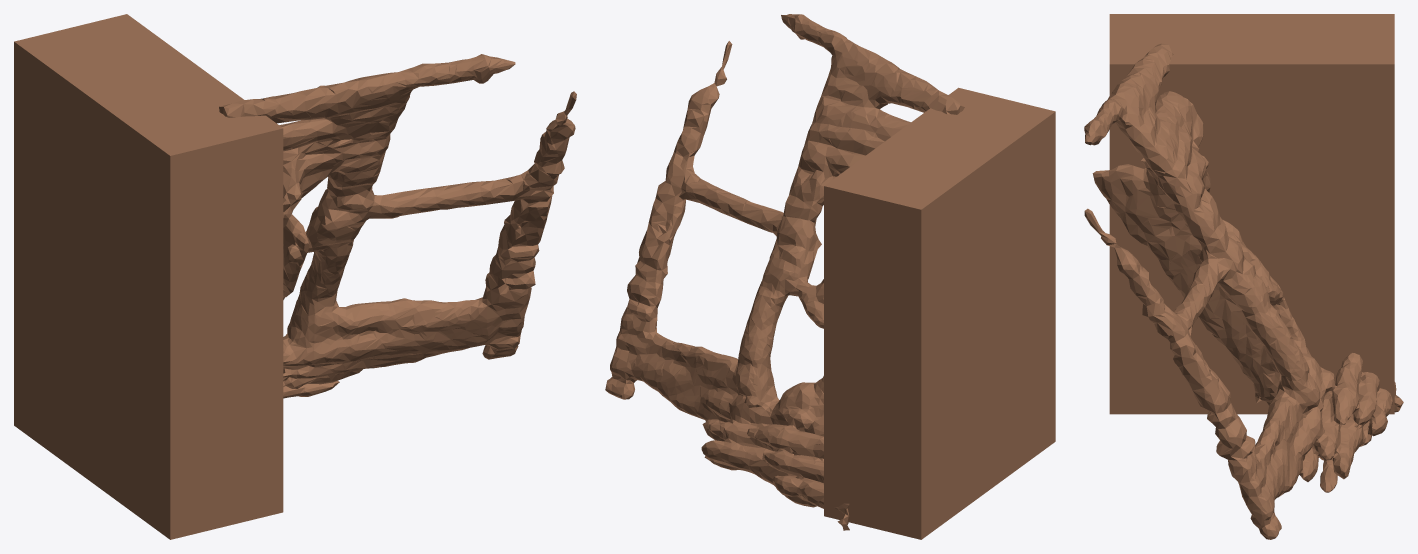
The model's file is improved.glb.
3 views of the same model, side by side, from view 1: azimuth 30°, elevation 25°; view 2: azimuth 150°, elevation 25°; view 3: azimuth 270°, elevation 25° (orthographic). The views are drawn at different scales.
Visible parts, largest first — view 1: world; view 2: world; view 3: world.
Part boxes in pixels (x1,y1,x2,y2): world: (14,14,576,539); world: (605,14,1055,539); world: (1084,14,1403,539).
Bounding box in the file's own units: 0.55 × 0.5256 × 0.3839.
